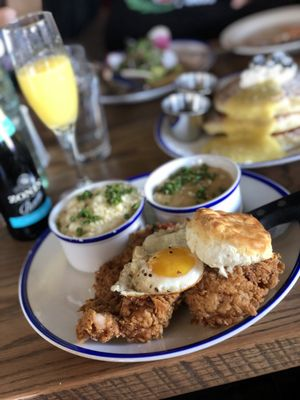sushi: (48, 180, 146, 273), (143, 154, 243, 223)
